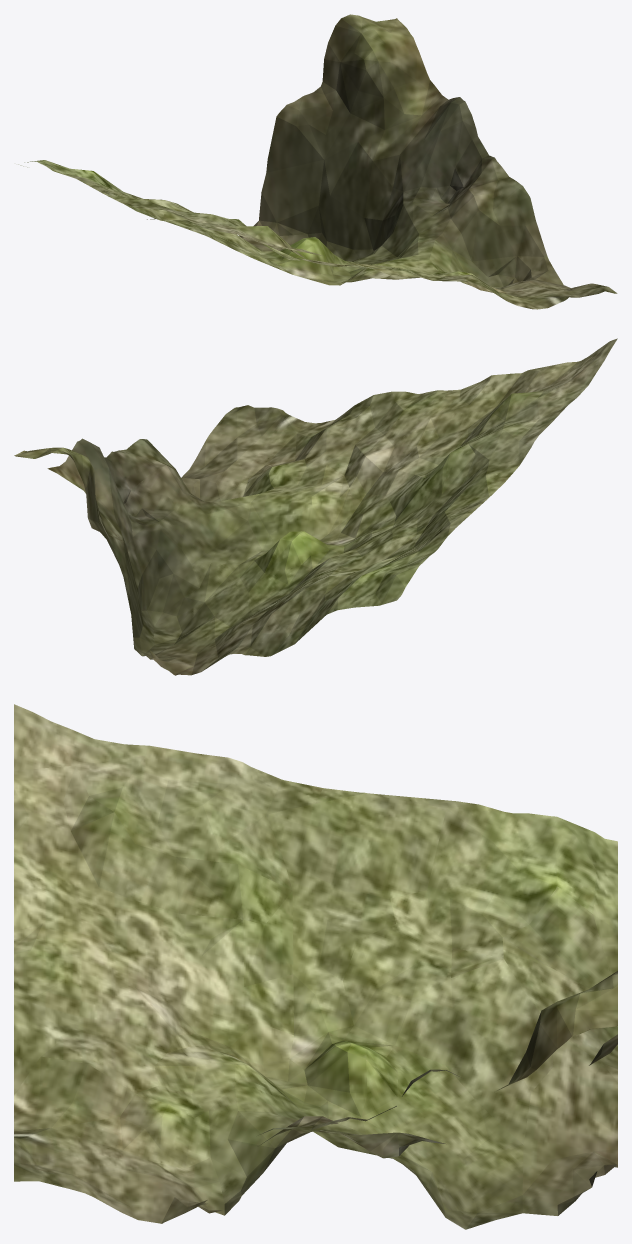
The picture shows the model from 3 angles, top to bottom: view 1: azimuth 30°, elevation 25°; view 2: azimuth 150°, elevation 25°; view 3: azimuth 270°, elevation 25°; orthographic projection. The views are drawn at different scales.
Bounding box in the file's own units: 2.95 × 1.77 × 2.95.
Materials: 3 (3 with a texture image).
